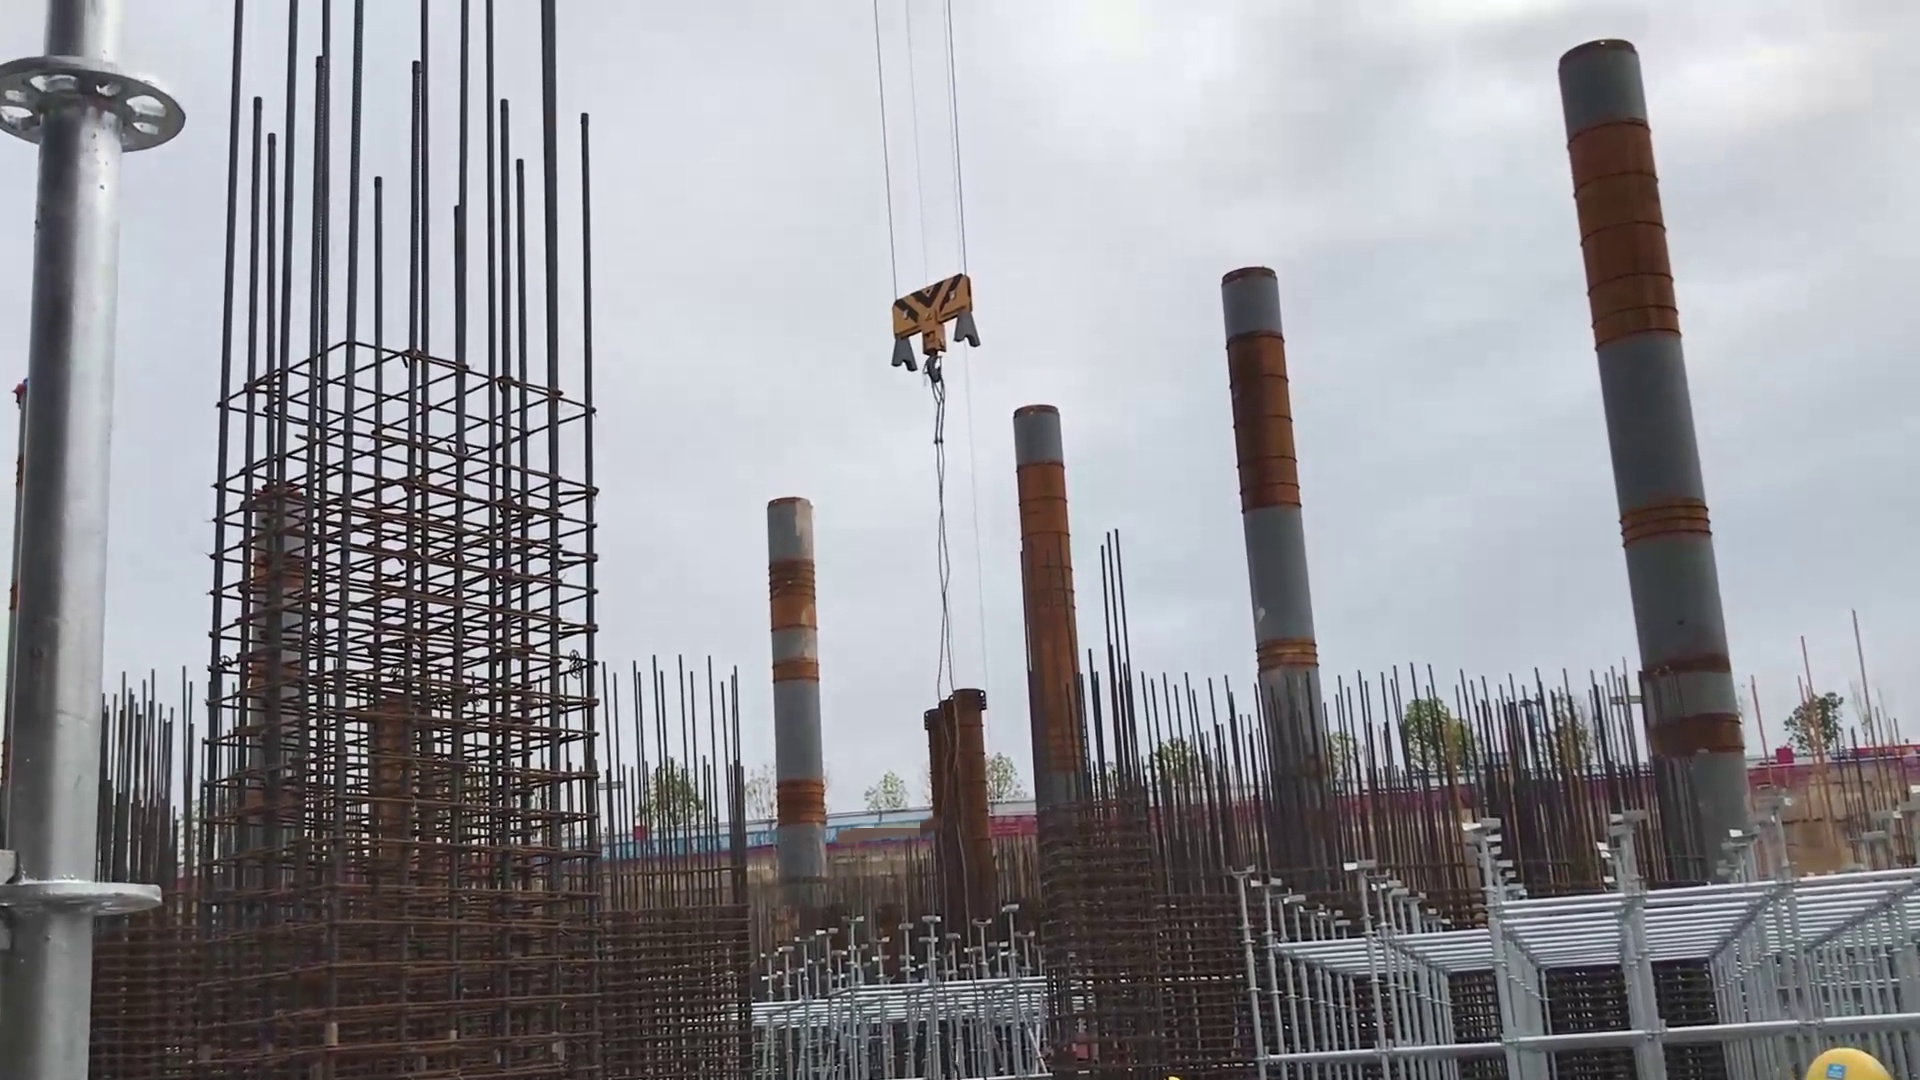hook: (882, 270, 994, 384)
